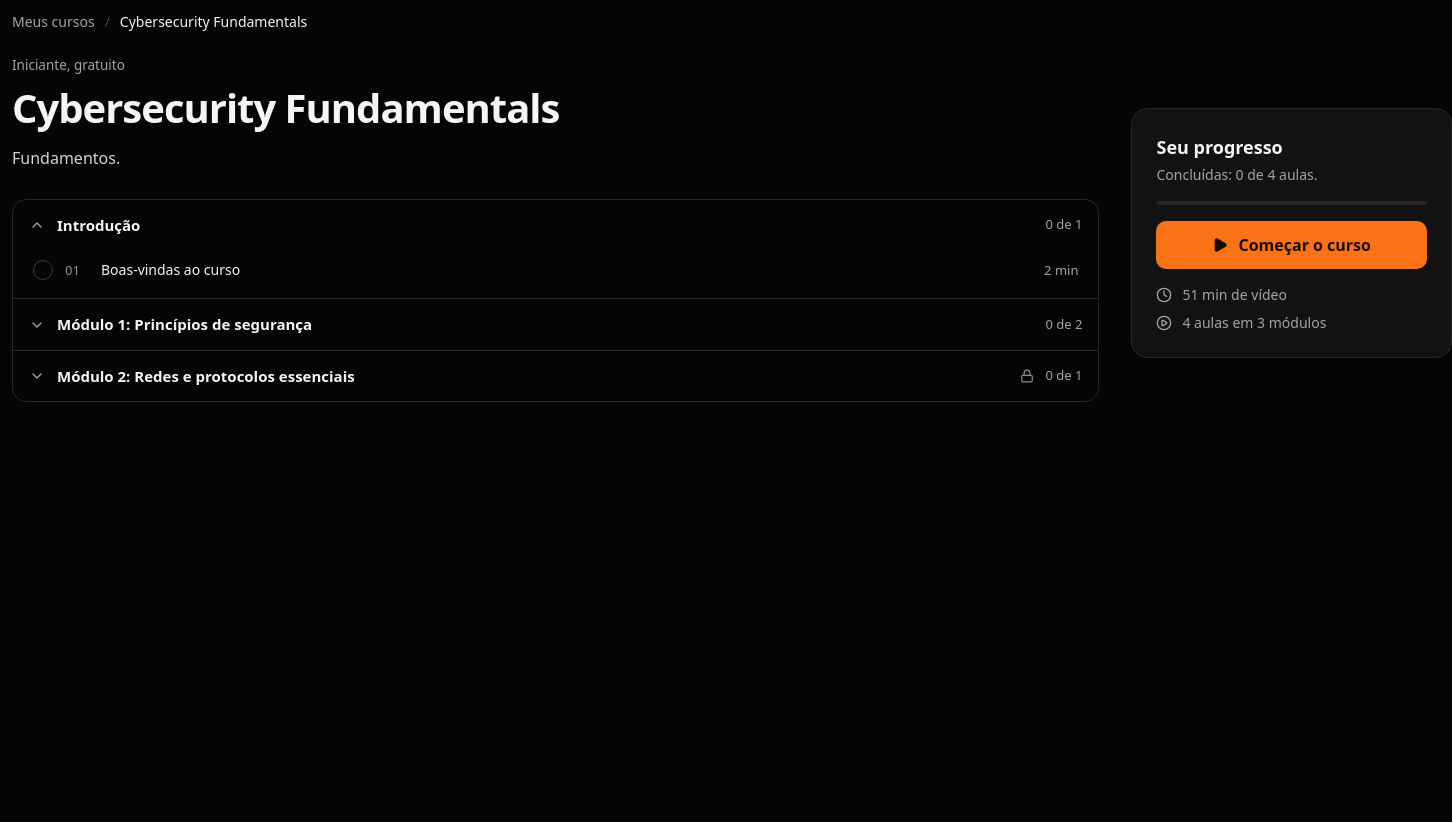
Test: curso e sala de aula com questões › curso mostra questões do módulo, bloqueio e nada de avaliação antes da hora
The image size is (1452, 822).
Expected: the heading "Cybersecurity Fundamentals" is shown, [12, 80, 559, 135]
Click the button "Módulo 1: Princípios de segurança 0 de 2" at (185, 324), box [13, 299, 1098, 350]
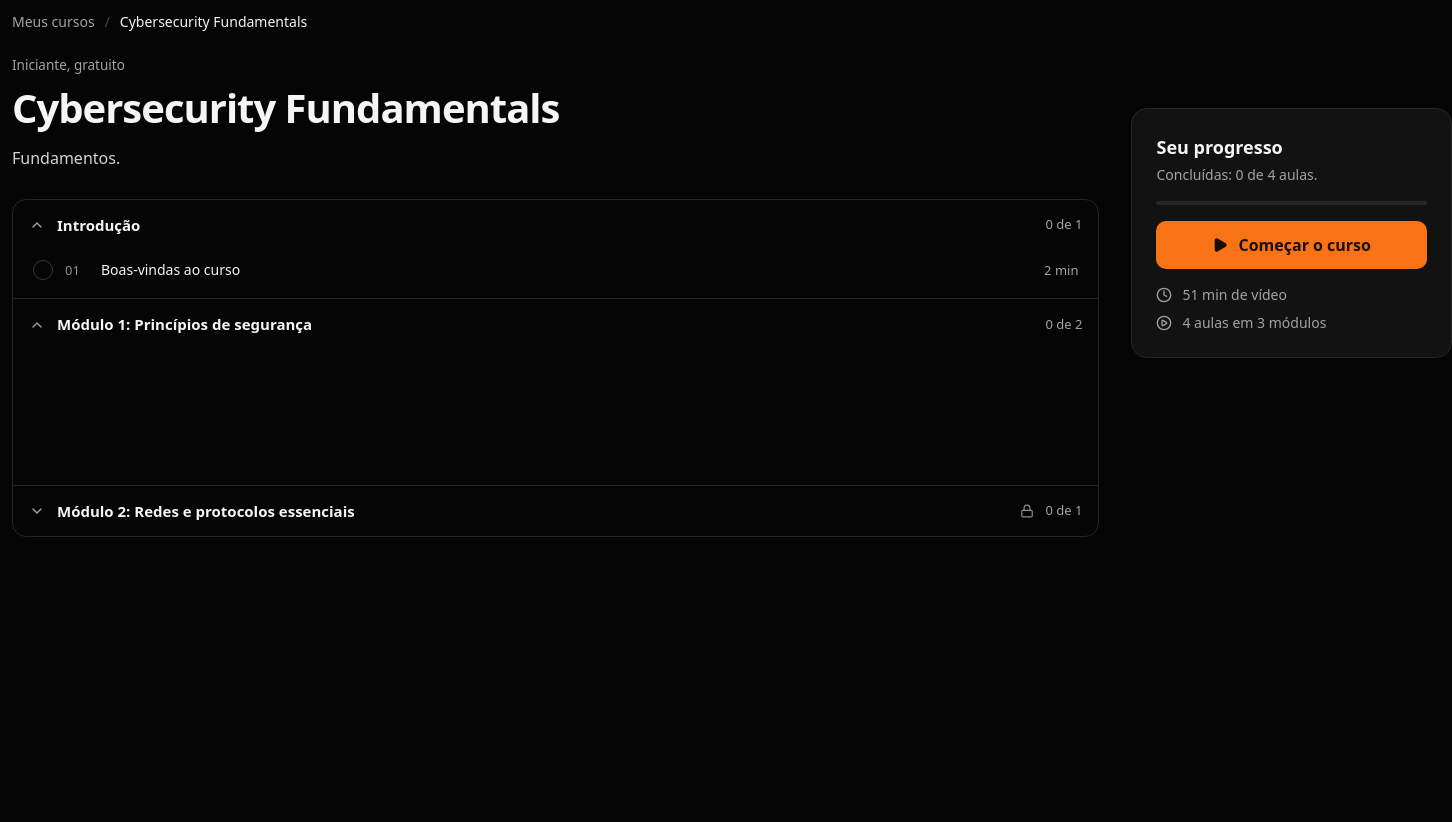
Click the button named "Módulo 2: Redes e protocolos essenciais, bloqueado" at (206, 511), box [13, 486, 1098, 536]
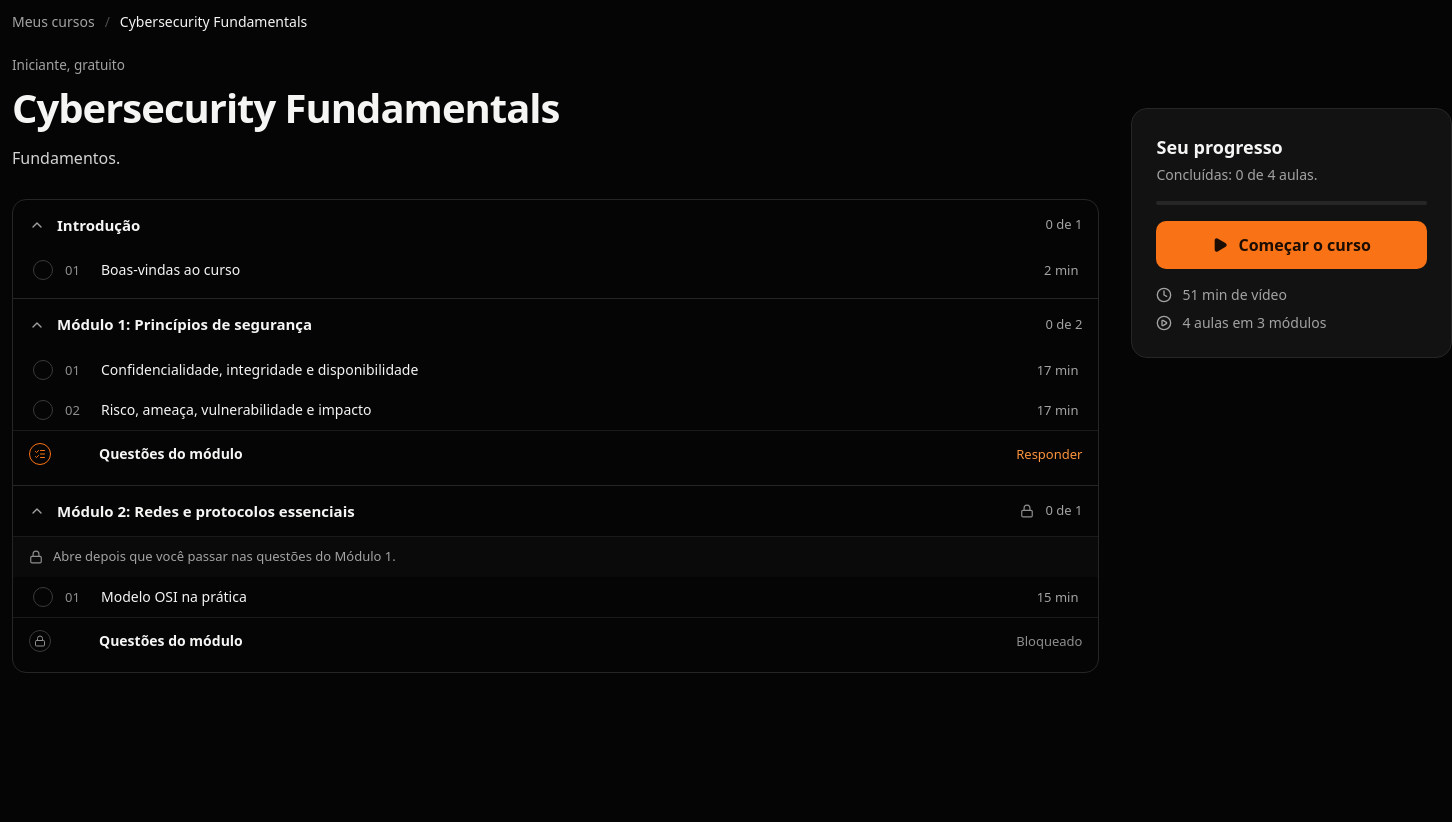
Now the list item "Abre depois que você passar nas questões do Módulo 1." is shown, box [13, 536, 1098, 577]
